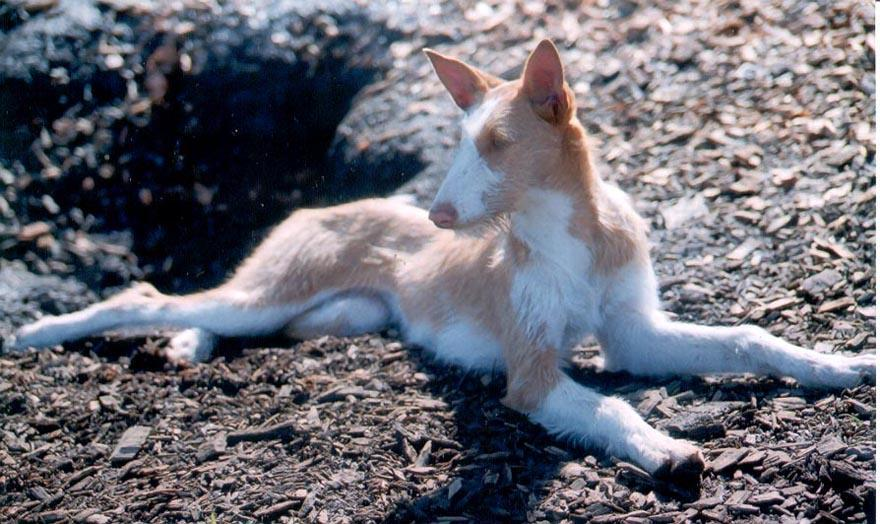Ibizan_hound: (9, 39, 874, 487)
